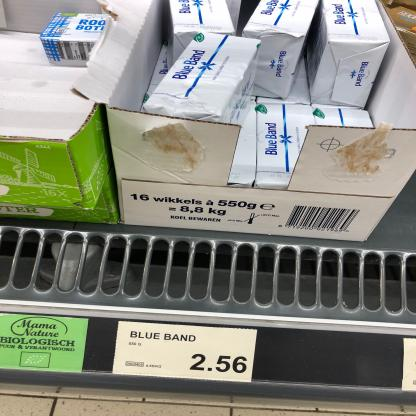prtg: (114, 322, 258, 383)
